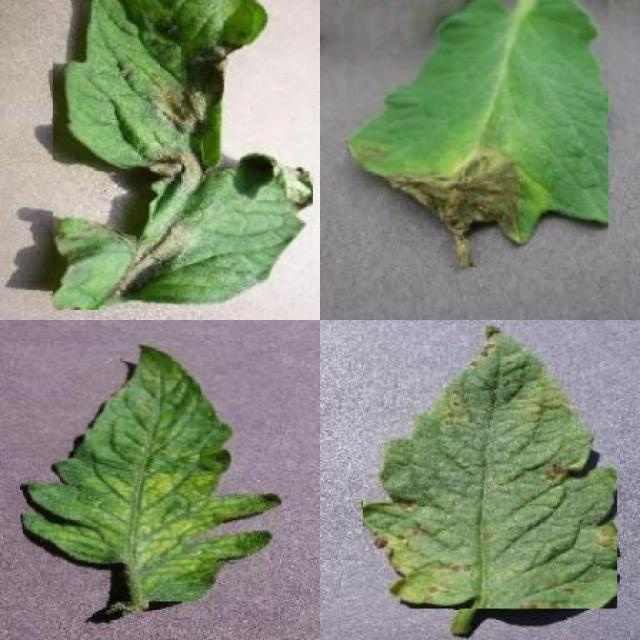Late Blight: (53, 0, 313, 310), (347, 0, 609, 267)
Mosaic Virus: (23, 338, 283, 602)
Septoria: (362, 326, 618, 608)
